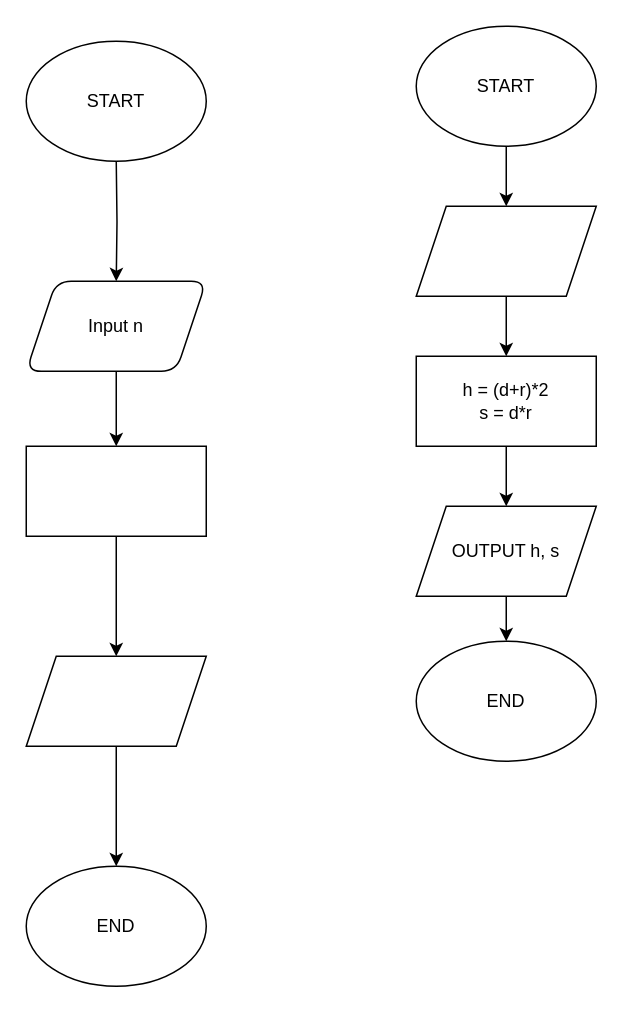
Some shapes in this 623 by 1013 pixel diagram are drawn without their labels. Each missing label, with the centre of its shape:
"INPUT d = chiều dài r = chiều rộng" belongs at point (505, 250).
"OUTPUT result" belongs at point (115, 700).
"result = n*n" belongs at point (115, 490).
